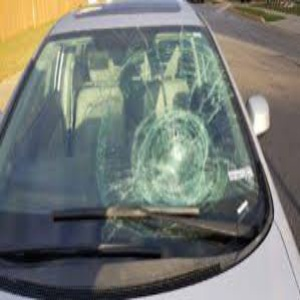front_windshield_glass: (34, 36, 260, 261)
